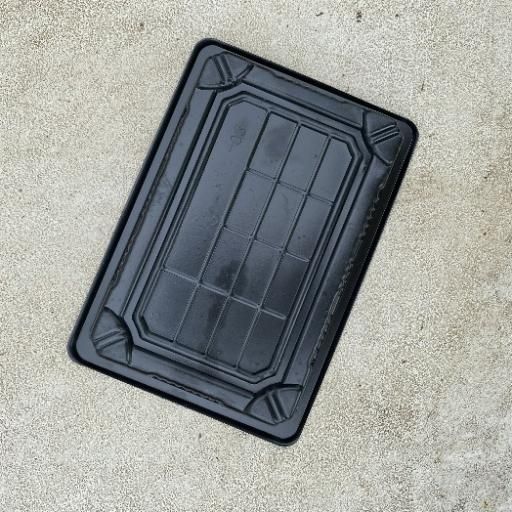Plastic: (66, 37, 419, 447)
